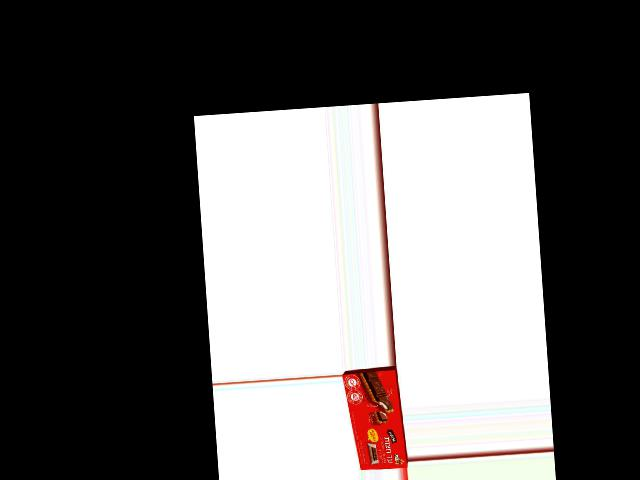chocolate: (348, 366, 403, 472)
